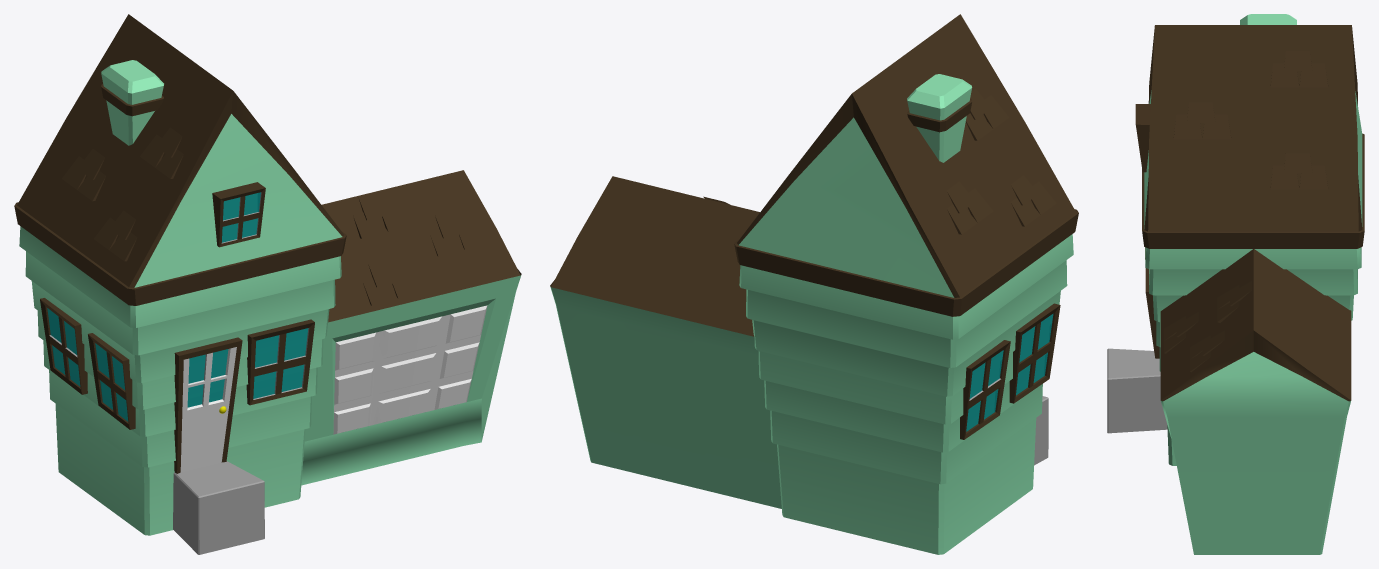
The model's file is HouseThree.fbx.
3 renders of one model, left to right at view 1: azimuth 30°, elevation 25°; view 2: azimuth 150°, elevation 25°; view 3: azimuth 270°, elevation 25°, orthographic. The views are drawn at different scales.
Visible parts, largest first — view 1: pCube1, pCube7, pCube2, pCube21, pCube3, pCube8, pCube5, pCube6, pCube22, pCube20, pCube19, pCube18 (+3 smaller); view 2: pCube1, pCube7, pCube8, pCube5, pCube6, pCube12, pCube14, pCube13, pCube21; view 3: pCube1, pCube7, pCube21, pCube15, pCube17, pCube16, pCube22, pCube20, pCube19, pCube18, pCube8, pCube3.
Boxes of the visible parts, left/top/right/bottom form: pCube1: left=14, top=14, right=346, bottom=535; pCube7: left=301, top=170, right=521, bottom=485; pCube2: left=174, top=337, right=242, bottom=473; pCube21: left=173, top=461, right=264, bottom=554; pCube3: left=246, top=319, right=314, bottom=405; pCube8: left=101, top=60, right=163, bottom=145; pCube5: left=88, top=333, right=135, bottom=429; pCube6: left=40, top=298, right=87, bottom=394; pCube22: left=212, top=182, right=265, bottom=247; pCube20: left=352, top=191, right=414, bottom=238; pCube19: left=362, top=258, right=424, bottom=305; pCube18: left=430, top=209, right=491, bottom=256; pCube1: left=734, top=14, right=1078, bottom=554; pCube7: left=550, top=176, right=781, bottom=508; pCube8: left=907, top=74, right=972, bottom=162; pCube5: left=1009, top=303, right=1060, bottom=403; pCube6: left=960, top=340, right=1010, bottom=439; pCube12: left=947, top=181, right=993, bottom=234; pCube14: left=1010, top=175, right=1056, bottom=226; pCube13: left=965, top=89, right=1008, bottom=140; pCube21: left=1034, top=396, right=1048, bottom=465; pCube1: left=1142, top=25, right=1364, bottom=465; pCube7: left=1160, top=249, right=1351, bottom=554; pCube21: left=1107, top=348, right=1167, bottom=433; pCube15: left=1173, top=102, right=1231, bottom=139; pCube17: left=1270, top=153, right=1328, bottom=189; pCube16: left=1270, top=51, right=1328, bottom=87; pCube22: left=1135, top=104, right=1150, bottom=172; pCube20: left=1217, top=281, right=1251, bottom=322; pCube19: left=1164, top=312, right=1198, bottom=353; pCube18: left=1190, top=330, right=1224, bottom=372; pCube8: left=1240, top=14, right=1296, bottom=24; pCube3: left=1145, top=268, right=1159, bottom=358.
Bounding box in the file's own units: 1.85 × 1.9 × 1.09.
